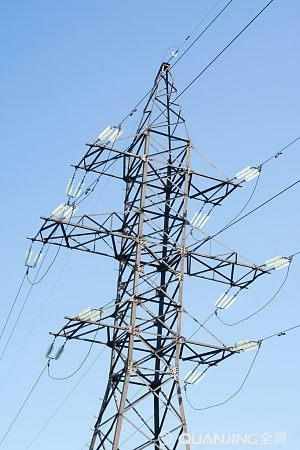power_tower: (42, 56, 277, 450)
